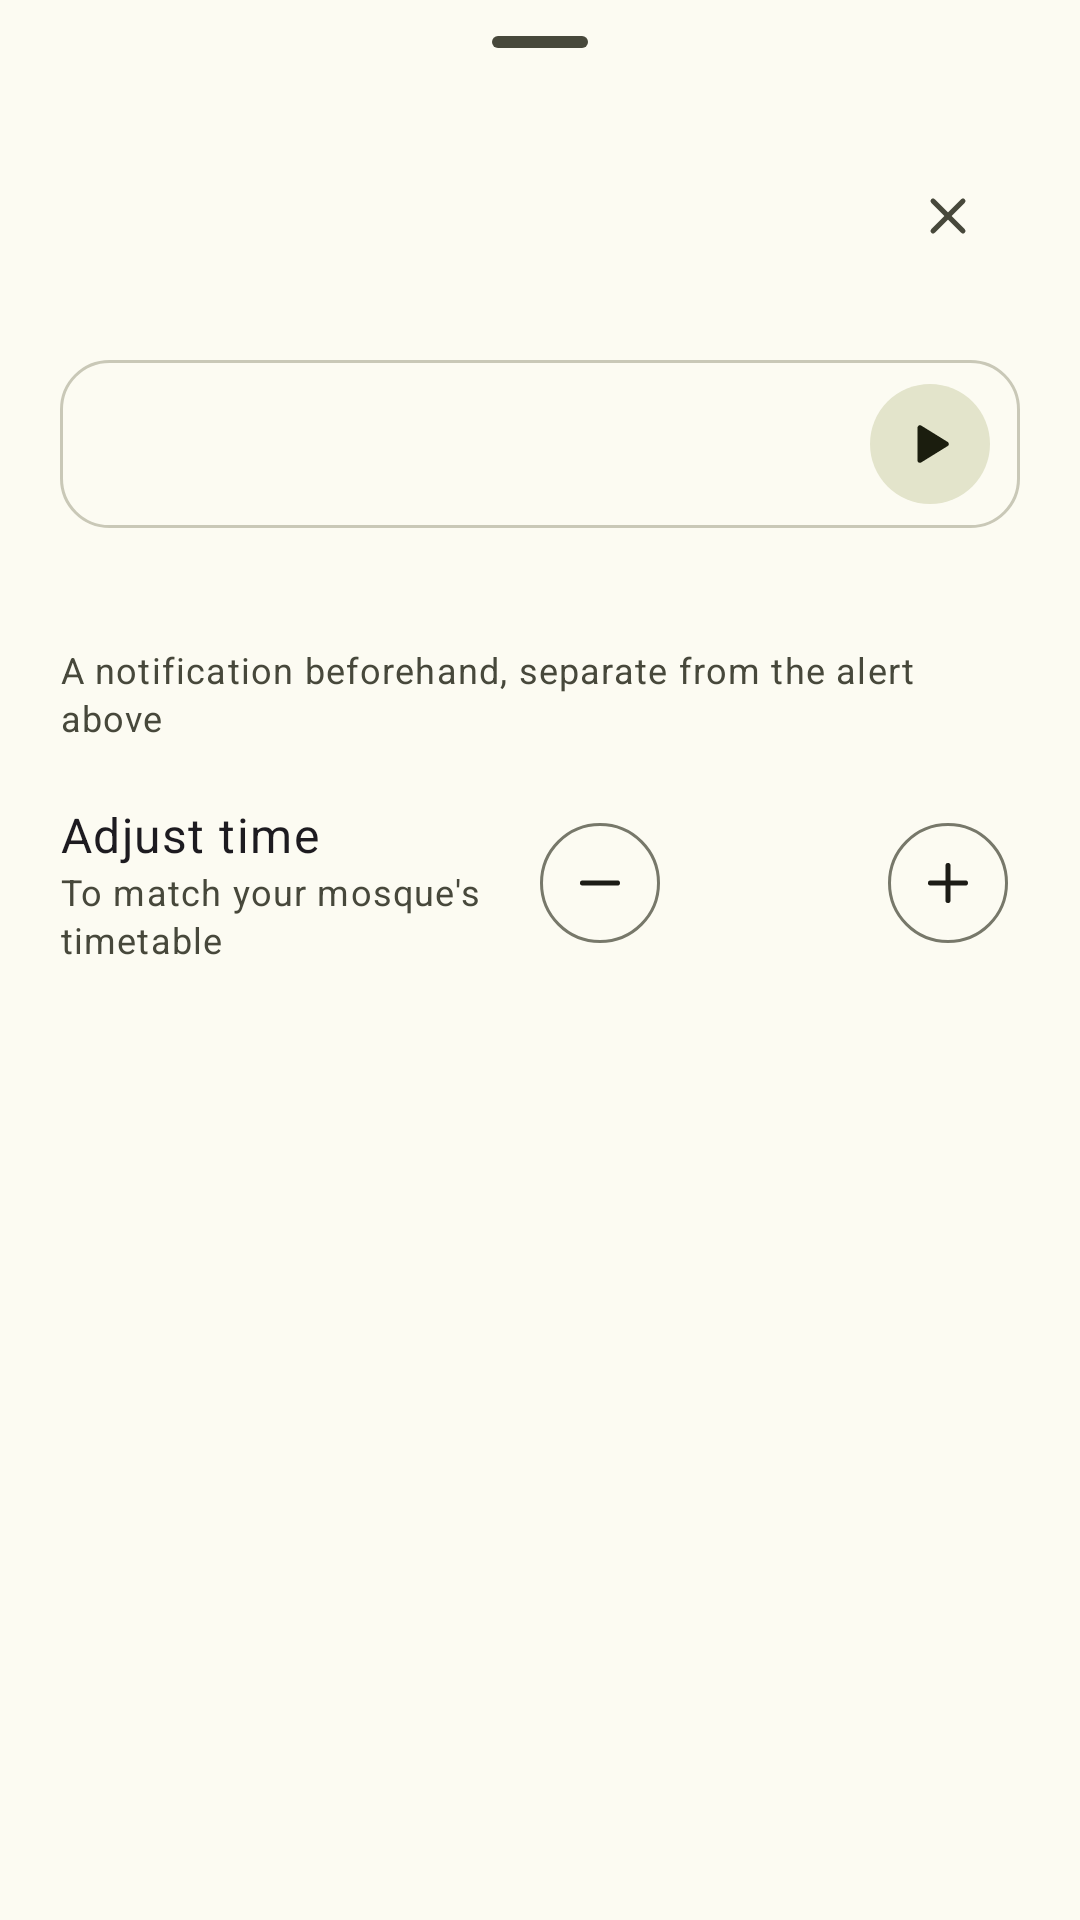

Named icons in this screenshot (1080px x 1920px) and their bounding boxes, (x1, y1, x2, y2):
Close: (930, 198, 966, 234)
One minute earlier: (540, 823, 660, 943)
One minute later: (888, 823, 1008, 943)
Play a preview: (870, 384, 990, 504)
